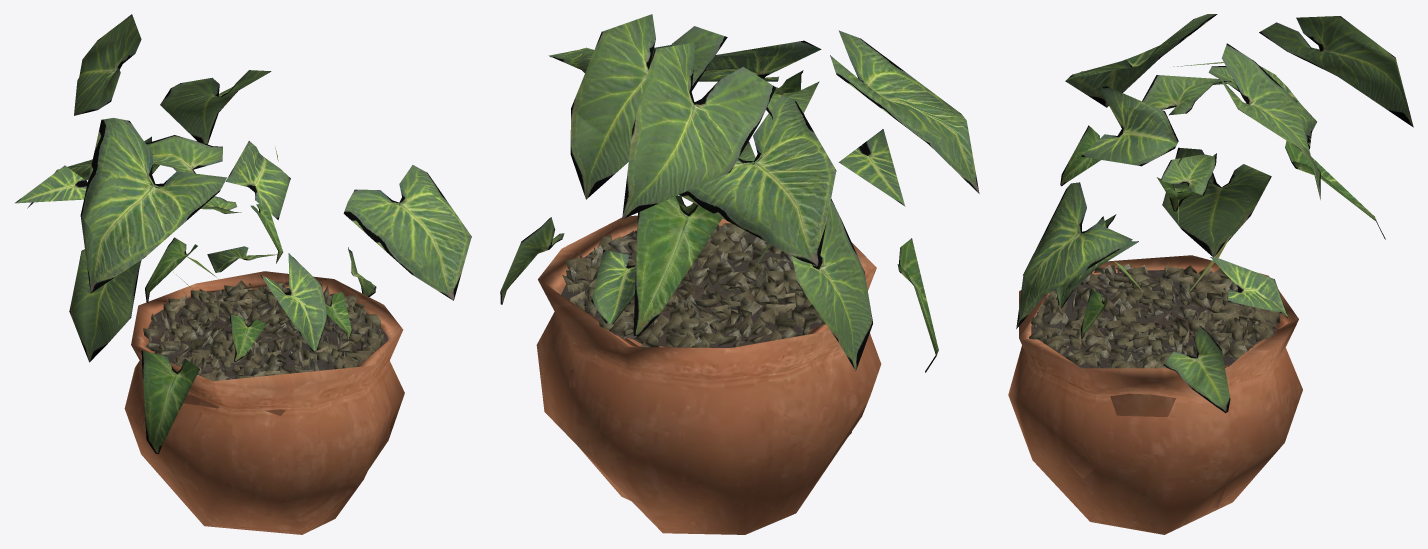
File: potted_plant_02.glb
3 views of the same model, side by side, from view 1: azimuth 30°, elevation 25°; view 2: azimuth 150°, elevation 25°; view 3: azimuth 270°, elevation 25° (orthographic). The views are drawn at different scales.
Visible parts, largest first — view 1: potted_plant_02_pot, potted_plant_02_leaves; view 2: potted_plant_02_pot, potted_plant_02_leaves; view 3: potted_plant_02_pot, potted_plant_02_leaves.
Boxes of the visible parts, bbox=[...] form: potted_plant_02_pot: bbox=[124, 271, 404, 534]; potted_plant_02_leaves: bbox=[15, 14, 471, 454]; potted_plant_02_pot: bbox=[536, 215, 881, 534]; potted_plant_02_leaves: bbox=[500, 14, 979, 372]; potted_plant_02_pot: bbox=[1008, 255, 1302, 534]; potted_plant_02_leaves: bbox=[1016, 14, 1413, 413].
Bounding box in the file's own units: 0.6967 × 0.8138 × 0.6451.
2 materials, 2 textured.
